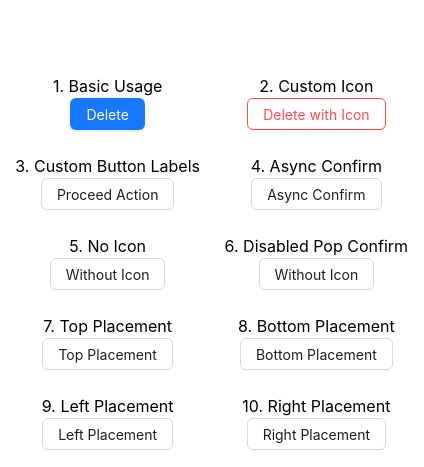
Test case: PopConfirm Showcase › Customization › should render custom icon in popconfirm
Click the button with test id "custom-icon" at (316,114), box [247,98,385,130]
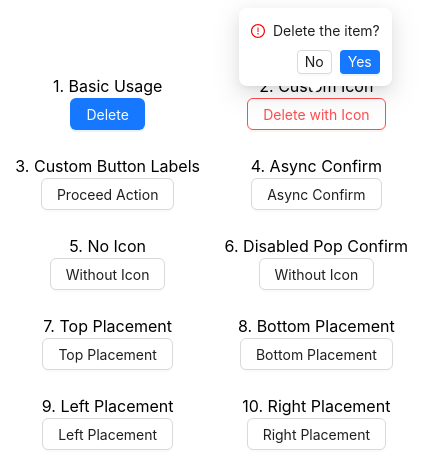
expect the picture named "exclamation-circle" is shown: met, box [251,24,265,38]
